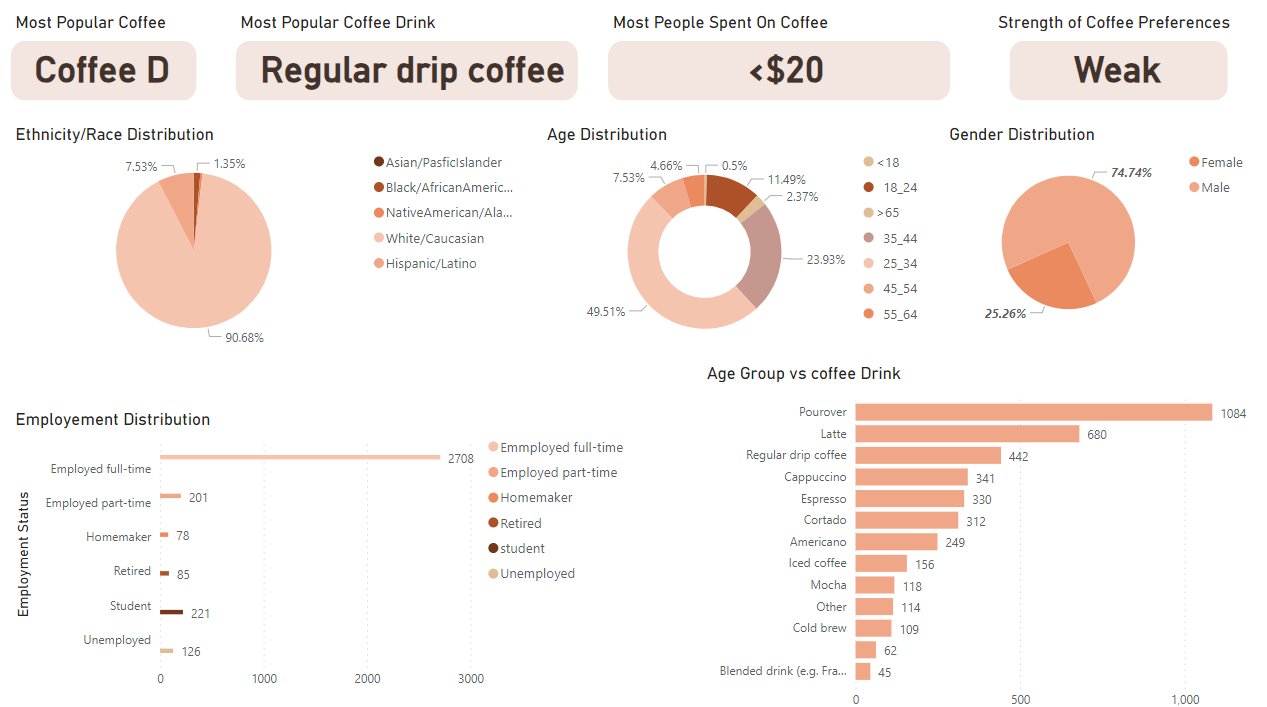

The page's visual inventory and layout, read from the dashboard file:
{"tool":"powerbi","page":{"name":"Duplicate of American Coffee ","canvas":[1280,720],"ordinal":3},"visuals":[{"type":"pieChart","title":"Gender Distribution","fields":{"Y":["People demographics measure table.Female","People demographics measure table.Male"]},"box":[946.2,126.2,313.8,217.5],"z":0},{"type":"donutChart","title":"Age Distribution","fields":{"Y":["People demographics measure table.age_<18","People demographics measure table.age_18_24","People demographics measure table.age_>65","People demographics measure table.age_35_44","People demographics measure table.age_25_34","People demographics measure table.age_45_54","People demographics measure table.age_55_64"]},"box":[543.8,126.2,390,236.2],"z":1000},{"type":"pieChart","title":"Ethnicity/Race Distribution","fields":{"Y":["People demographics measure table.Asian/PasficIslander","People demographics measure table.Black/AfricanAmerican","People demographics measure table.NativeAmerican/AlaskaNative","People demographics measure table.White/Caucasian","People demographics measure table.Hispanic/Latino"]},"box":[12.5,126.2,520,233.8],"z":2000},{"type":"clusteredBarChart","title":"Employement Distribution","fields":{"Y":["People demographics measure table.Emmployed_full","People demographics measure table.Employed_part","People demographics measure table.Homemaker","People demographics measure table.Retired","People demographics measure table.student","People demographics measure table.Unemployed"],"Category":["GACTT_RESULTS_ANONYMIZED_v2.Employment Status"]},"box":[12.5,411.2,627.5,287.5],"z":3000},{"type":"clusteredBarChart","title":"Age Group vs coffee Drink","fields":{"Category":["GACTT_RESULTS_ANONYMIZED_v2.What is your favorite coffee drink?"],"Y":["CountNonNull(GACTT_RESULTS_ANONYMIZED_v2.What is your age?)"]},"box":[703.8,365,565,355],"z":4000},{"type":"group","id":"g1","title":"Group 4","box":[12.5,13.8,1231.2,88.8],"z":5000},{"type":"card","title":"Most Popular Coffee","fields":{"Values":["Preferences measures.FavCoffee"]},"box":[12.5,13.8,183.8,88.8],"z":6000,"group":"g1"},{"type":"shape","box":[12.5,42.2,186.2,60.3],"z":7000,"group":"g1"},{"type":"card","title":"Most Popular Coffee Drink","fields":{"Values":["Preferences measures.Mostlikedcoffeedrink"]},"box":[237.5,13.8,355,88.8],"z":9000,"group":"g1"},{"type":"shape","box":[237.5,42.2,342.5,60.3],"z":10000,"group":"g1"},{"type":"card","title":"Most People Spent On  Coffee","fields":{"Values":["Preferences measures.Mostspentamount"]},"box":[610,13.8,355,88.8],"z":11000,"group":"g1"},{"type":"shape","box":[610,42.2,342.5,60.3],"z":12000,"group":"g1"},{"type":"card","title":"Strength of Coffee Preferences","fields":{"Values":["Preferences measures.howstrong"]},"box":[995,13.8,248.8,88.8],"z":13000,"group":"g1"},{"type":"shape","box":[1011.3,42.2,218.8,60.3],"z":14000,"group":"g1"}]}

Visuals, with their boxes in screenshot pixels (x1, y1, x2, y2), scaled from the page's 1280x720 canvas onto the 1267x707 screenshot:
"Gender Distribution" pieChart: 937,124,1247,337
"Age Distribution" donutChart: 538,124,924,356
"Ethnicity/Race Distribution" pieChart: 12,124,527,354
"Employement Distribution" clusteredBarChart: 12,404,634,686
"Age Group vs coffee Drink" clusteredBarChart: 697,358,1256,706
"Group 4" group: 12,14,1231,101
"Most Popular Coffee" card: 12,14,194,101
shape: 12,41,197,101
"Most Popular Coffee Drink" card: 235,14,586,101
shape: 235,41,574,101
"Most People Spent On  Coffee" card: 604,14,955,101
shape: 604,41,943,101
"Strength of Coffee Preferences" card: 985,14,1231,101
shape: 1001,41,1218,101
